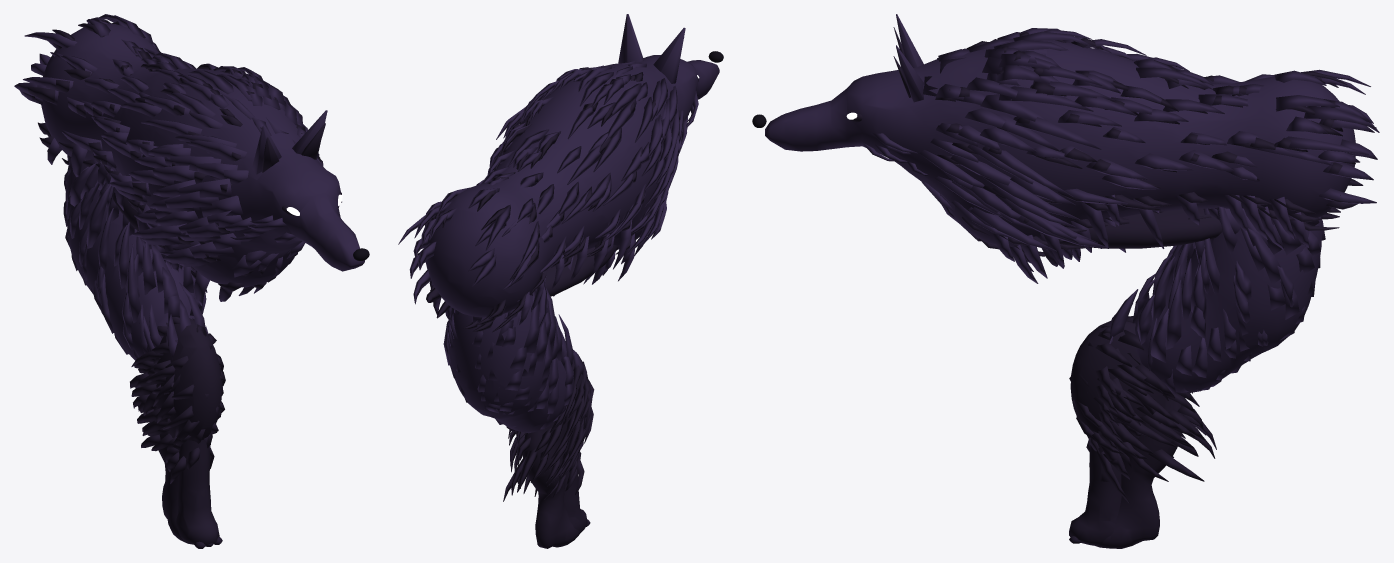
Rendered from wolf.glb.
3 renders of one model, left to right at view 1: azimuth 30°, elevation 25°; view 2: azimuth 150°, elevation 25°; view 3: azimuth 270°, elevation 25°, orthographic. The views are drawn at different scales.
Visible parts, largest first — view 1: wolf_body, wolf_tail, wolf_hind, wolf_fore; view 2: wolf_body, wolf_tail, wolf_hind, wolf_fore; view 3: wolf_body, wolf_tail, wolf_hind, wolf_fore.
Part boxes in pixels (x1=…): wolf_body: x1=14, y1=14, x2=369, y2=306; wolf_tail: x1=63, y1=155, x2=208, y2=360; wolf_hind: x1=130, y1=317, x2=224, y2=544; wolf_fore: x1=143, y1=352, x2=225, y2=548; wolf_body: x1=398, y1=14, x2=723, y2=332; wolf_tail: x1=443, y1=282, x2=583, y2=433; wolf_hind: x1=503, y1=350, x2=594, y2=548; wolf_fore: x1=534, y1=380, x2=592, y2=533; wolf_body: x1=752, y1=14, x2=1379, y2=283; wolf_tail: x1=1109, y1=206, x2=1325, y2=393; wolf_hind: x1=1069, y1=316, x2=1216, y2=548; wolf_fore: x1=1069, y1=348, x2=1168, y2=545.
Size of the model in its own units: 0.643 by 1.85 by 2.04.
